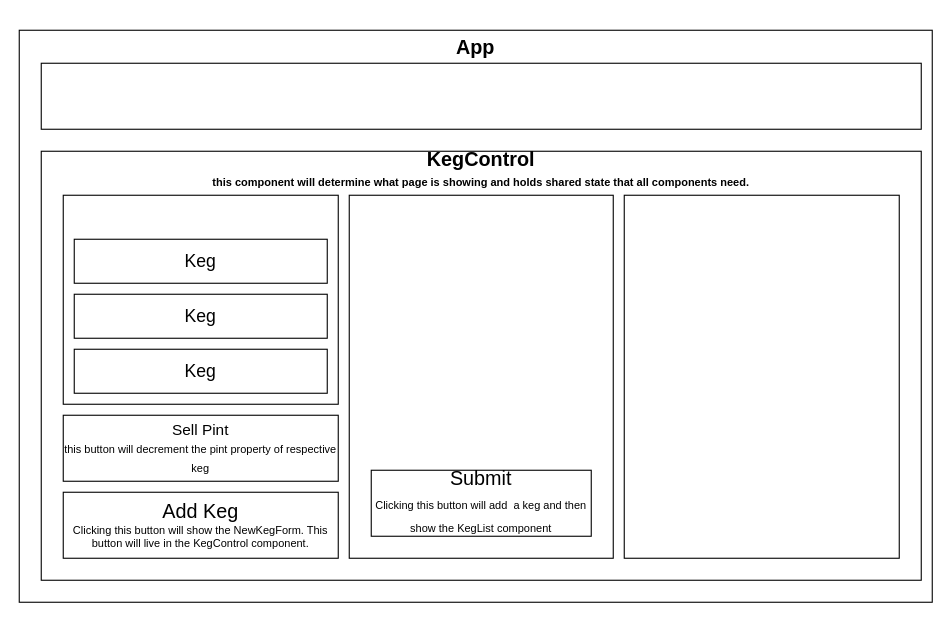
The diagram is 952 pixels wide and 622 high, and some of its shapes have lost their labels. The box of each missing label's shape, as (x1, y1, x2, y2) in pixels:
Header: (40, 62, 921, 129)
KegDetail: (623, 194, 899, 558)
KegList: (62, 194, 338, 404)
NewKegForm: (348, 194, 613, 558)
